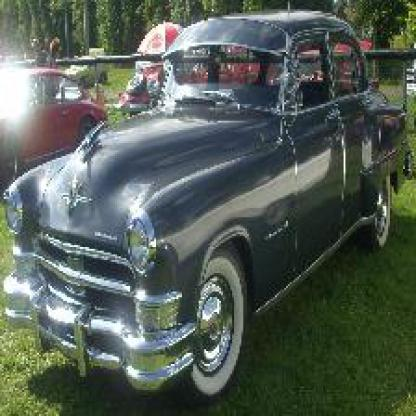not_emergency: (19, 2, 414, 386)
